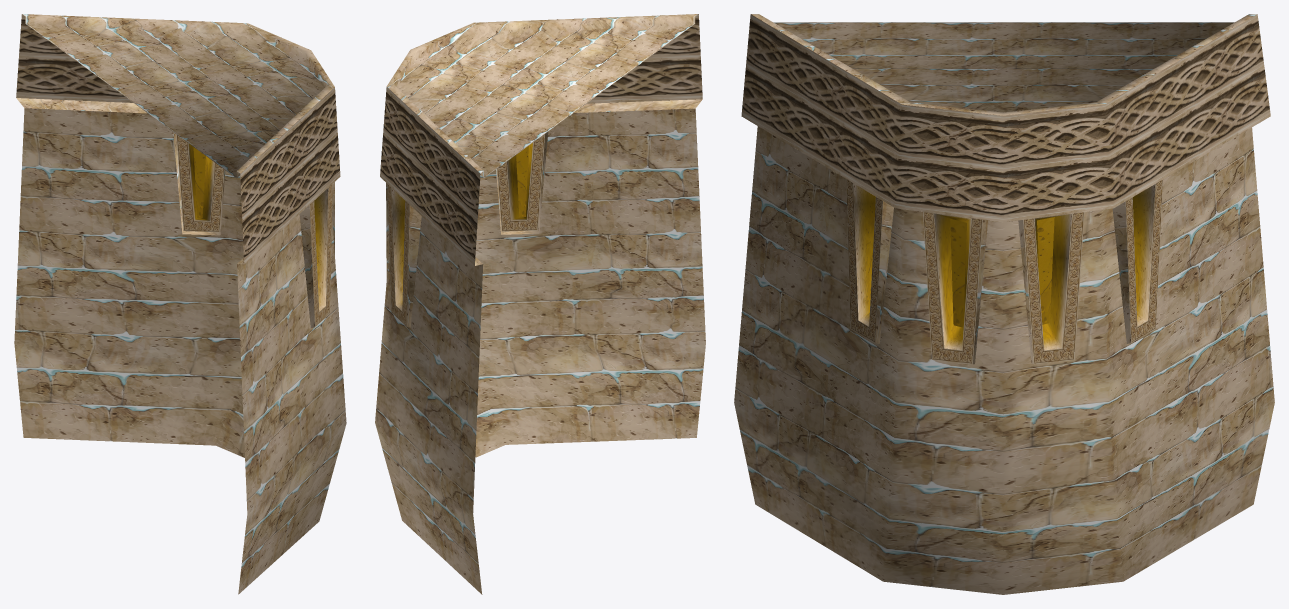
The model's file is fortress02_07.obj.
The picture shows the model from 3 angles, left to right: view 1: azimuth 30°, elevation 25°; view 2: azimuth 150°, elevation 25°; view 3: azimuth 270°, elevation 25°; orthographic projection. The views are drawn at different scales.
Visible parts, largest first — view 1: Geoset0, Geoset2, Geoset3, Geoset1, Geoset4; view 2: Geoset0, Geoset2, Geoset3, Geoset1, Geoset4; view 3: Geoset0, Geoset2, Geoset3, Geoset1, Geoset4.
Boxes of the visible parts, x1,y1,x2,y2 form: Geoset0: (14,14,346,594); Geoset2: (16,14,340,264); Geoset3: (176,134,332,326); Geoset1: (188,143,328,311); Geoset4: (193,147,205,217); Geoset0: (375,14,705,594); Geoset2: (380,14,702,265); Geoset3: (387,134,544,326); Geoset1: (391,142,533,310); Geoset4: (516,146,528,217); Geoset0: (734,14,1274,594); Geoset2: (741,14,1270,222); Geoset3: (846,179,1162,364); Geoset1: (853,183,1155,350); Geoset4: (950,217,1054,327).
Bounding box in the file's own units: 16.56 × 35.13 × 35.1.
Materials: 4 (4 with a texture image).
